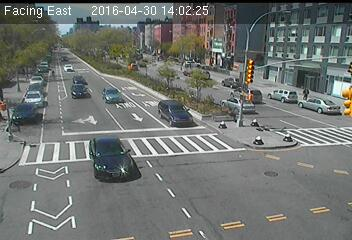neg: (111, 107, 154, 165), (167, 102, 201, 147), (41, 134, 73, 176), (16, 36, 47, 77), (290, 164, 320, 203), (240, 50, 266, 84), (316, 106, 342, 140), (279, 24, 301, 54), (63, 190, 85, 220), (161, 183, 183, 212), (93, 51, 114, 79), (240, 127, 261, 154), (183, 63, 202, 89), (127, 31, 146, 55), (82, 96, 100, 120), (238, 201, 255, 225), (277, 88, 294, 110)
pos: (301, 81, 314, 99)
